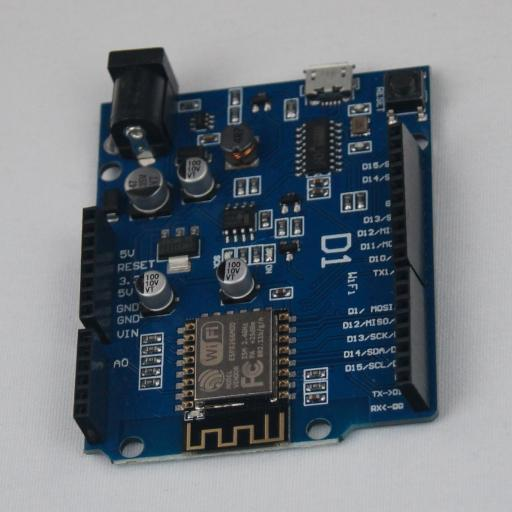Arduino Uno WiFi Shield: (73, 47, 439, 464)
